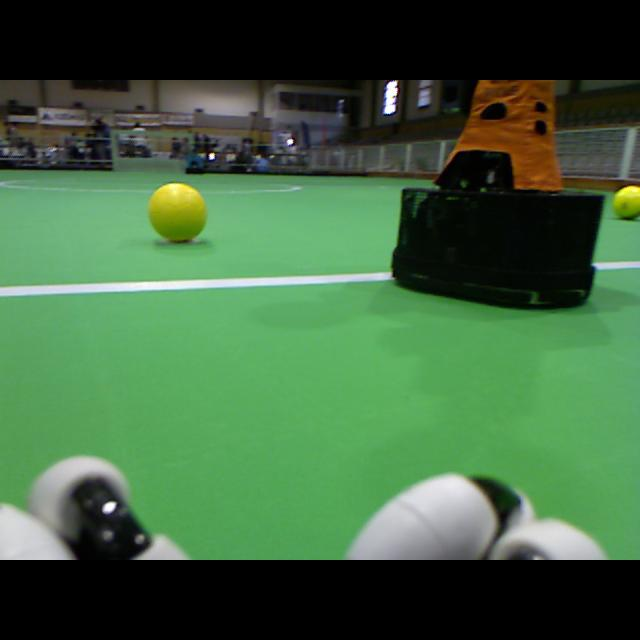ball: (150, 182, 205, 241), (616, 185, 639, 221)
goal: (112, 130, 119, 171)
robot: (393, 80, 602, 310)
